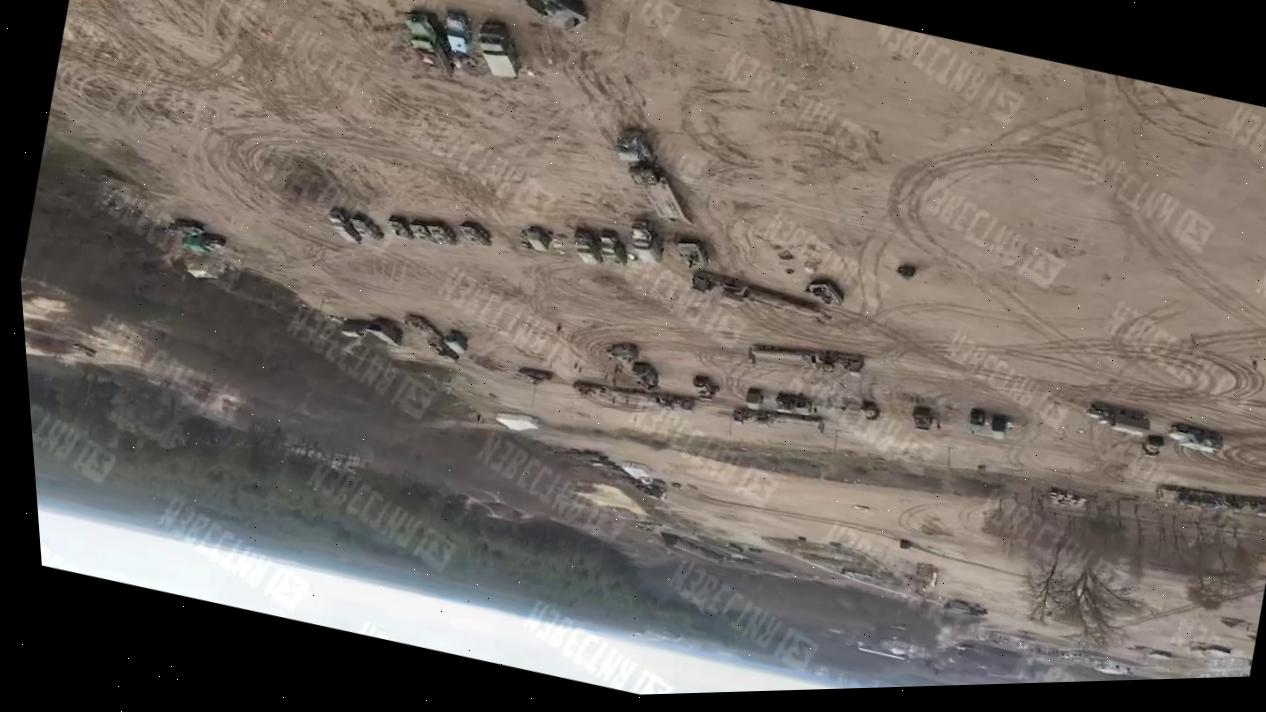armored_car: (1163, 415, 1234, 458), (603, 337, 641, 365)
car: (437, 9, 481, 55), (523, 224, 554, 253), (852, 499, 874, 516)
person: (554, 320, 565, 336), (610, 360, 621, 376), (608, 373, 620, 387), (933, 418, 945, 432), (617, 361, 627, 376), (609, 397, 620, 407), (602, 370, 610, 381), (577, 365, 584, 376), (623, 397, 630, 407), (572, 359, 579, 368), (476, 413, 482, 422), (607, 355, 612, 365)
tank: (501, 0, 598, 38), (1167, 484, 1227, 528), (671, 235, 714, 271), (804, 275, 848, 309), (453, 218, 496, 249), (516, 361, 556, 390), (346, 213, 384, 243), (423, 218, 461, 248), (405, 217, 442, 246), (383, 214, 419, 243), (172, 215, 207, 241)
truck: (598, 121, 713, 230), (687, 263, 839, 333), (744, 327, 869, 394), (1151, 471, 1266, 532), (392, 6, 468, 82), (730, 396, 828, 446), (599, 374, 699, 420), (466, 15, 532, 82), (395, 310, 467, 364), (1082, 397, 1154, 439), (622, 216, 672, 268), (321, 205, 368, 246), (592, 228, 634, 269), (568, 227, 610, 267), (625, 355, 669, 393), (179, 226, 229, 259), (363, 314, 407, 348), (1136, 432, 1170, 464), (857, 392, 888, 427), (908, 405, 938, 436), (440, 327, 472, 355), (340, 315, 372, 342), (964, 406, 989, 435), (987, 413, 1012, 441), (743, 386, 766, 411), (896, 535, 916, 553)
